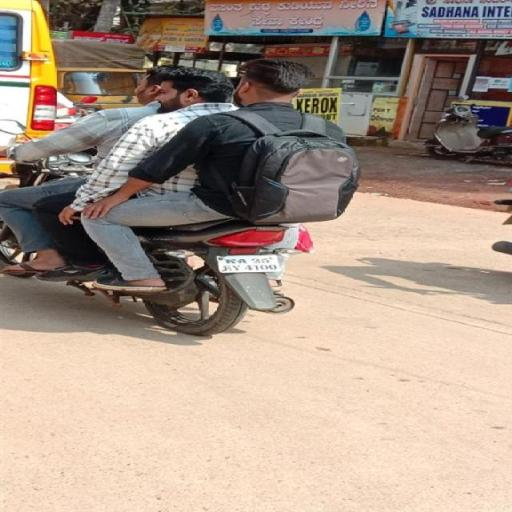tripple riding: (0, 43, 365, 241)
